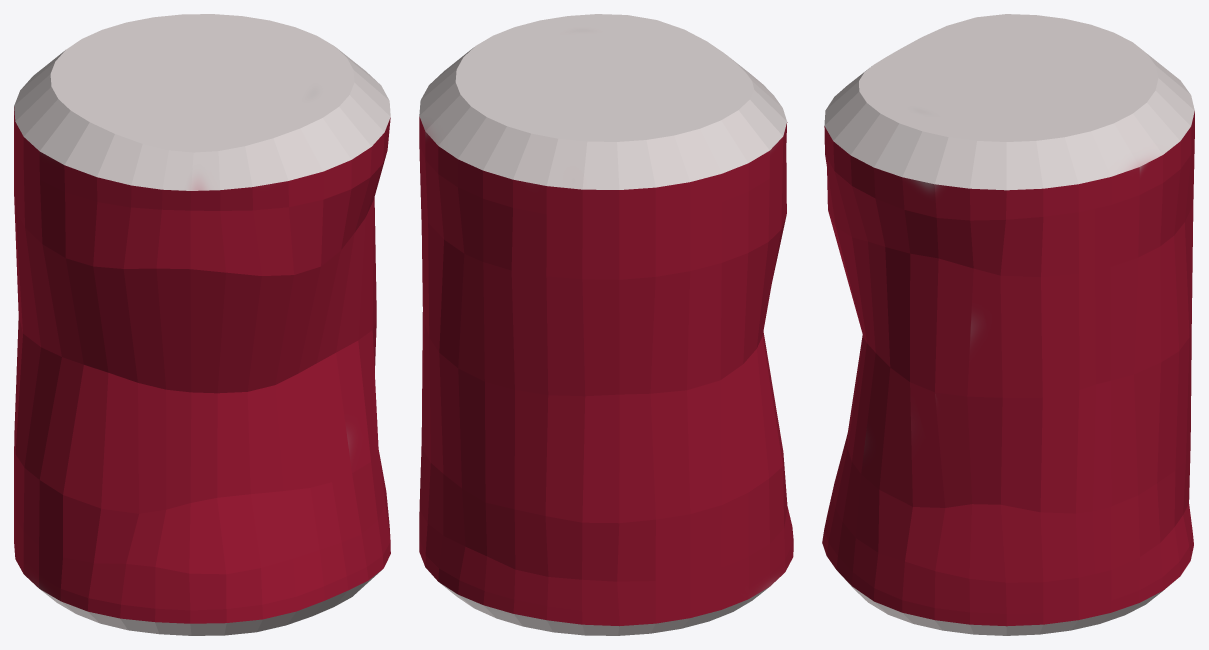
The model's file is can.glb.
The picture shows the model from 3 angles, left to right: view 1: azimuth 30°, elevation 25°; view 2: azimuth 150°, elevation 25°; view 3: azimuth 270°, elevation 25°; orthographic projection.
Parts seen in each view (by area): view 1: Cylinder; view 2: Cylinder; view 3: Cylinder.
Boxes of the visible parts, x1,y1,x2,y2 form: Cylinder: (14,14,390,635); Cylinder: (419,14,793,635); Cylinder: (822,14,1194,635).
Bounding box in the file's own units: 1.4 × 2 × 1.39.
Materials: 1 (1 with a texture image).
